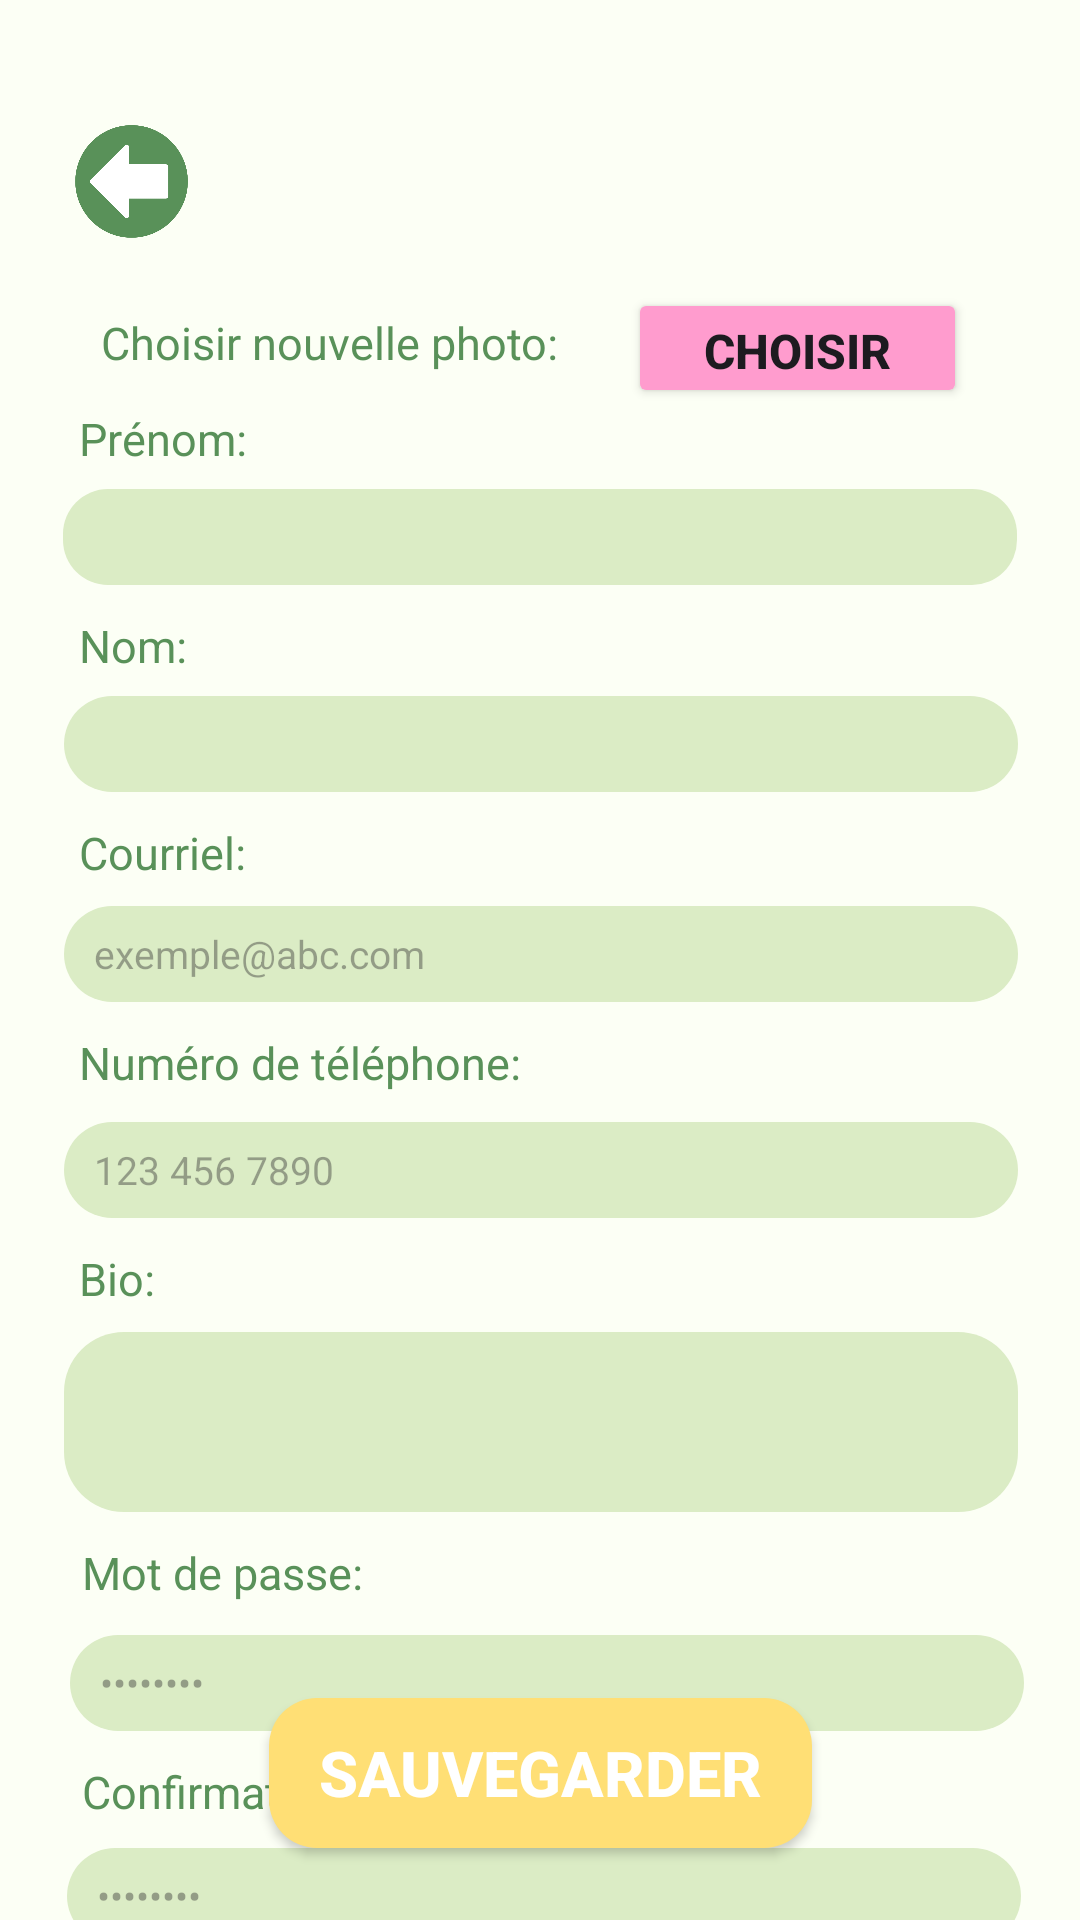

Where icons sit on this 1080w x 1920h app screen, as region(x1, y1, x2, y2):
Retour: region(75, 125, 188, 238)
